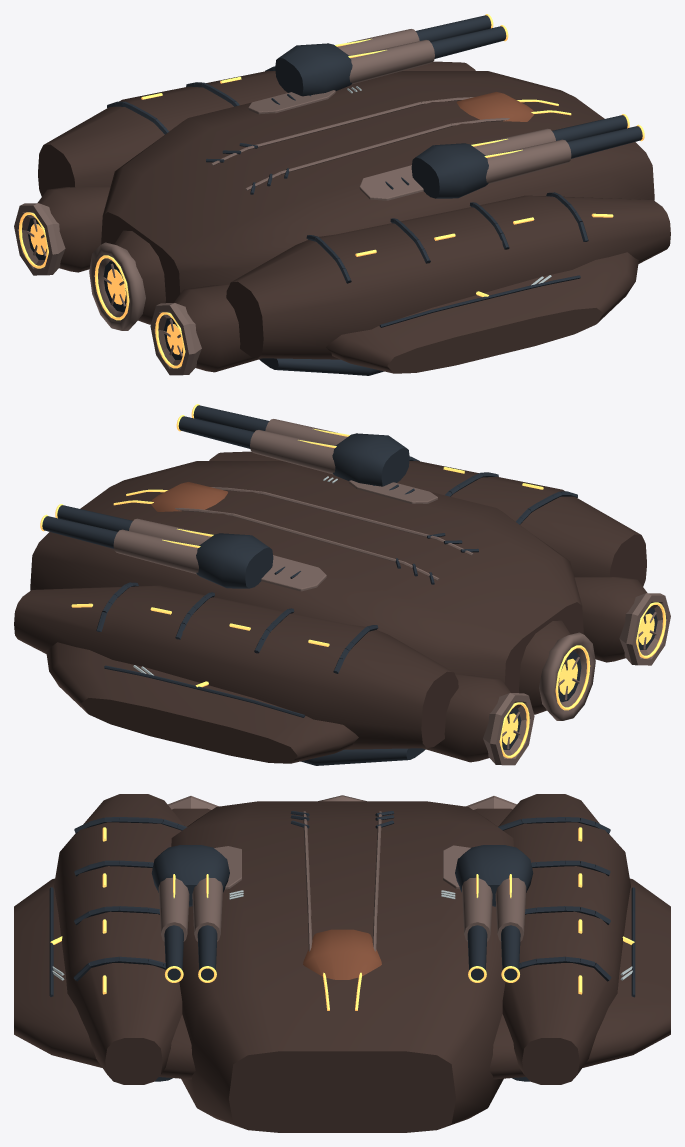
The model's file is bastion.glb.
3 renders of one model, top to bottom at view 1: azimuth 30°, elevation 25°; view 2: azimuth 150°, elevation 25°; view 3: azimuth 270°, elevation 25°, orthographic. The views are drawn at different scales.
Parts seen in each view (by area): view 1: hull Hull paint, wing Hull paint, mount Graphite heat armour, engine Brushed panel alloy, mount Brushed panel alloy, hull Brushed panel alloy, hull Graphite heat armour, engine Hull guidance, hull Smoked canopy, wing Graphite heat armour, hull Hull guidance, engine Graphite heat armour (+1 smaller); view 2: hull Hull paint, wing Hull paint, mount Graphite heat armour, engine Brushed panel alloy, mount Brushed panel alloy, hull Brushed panel alloy, hull Graphite heat armour, engine Hull guidance, hull Smoked canopy, wing Graphite heat armour, hull Hull guidance, engine Graphite heat armour (+1 smaller); view 3: hull Hull paint, wing Hull paint, mount Graphite heat armour, mount Brushed panel alloy, hull Graphite heat armour, hull Smoked canopy, hull Brushed panel alloy, engine Brushed panel alloy, wing Graphite heat armour, hull Hull guidance, mount Hull guidance.
Part boxes in pixels (x1,y1,x2,y2): hull Hull paint: (37,61,670,372); wing Hull paint: (326,252,638,373); mount Graphite heat armour: (275,15,642,198); engine Brushed panel alloy: (14,203,201,375); mount Brushed panel alloy: (337,29,571,184); hull Brushed panel alloy: (211,90,509,200); hull Graphite heat armour: (107,66,588,375); engine Hull guidance: (18,212,185,368); hull Smoked canopy: (456,92,534,121); wing Graphite heat armour: (379,275,580,327); hull Hull guidance: (141,77,613,256); engine Graphite heat armour: (27,218,182,359); hull Hull paint: (14,451,647,762); wing Hull paint: (46,642,358,763); mount Graphite heat armour: (42,405,409,588); engine Brushed panel alloy: (483,593,670,765); mount Brushed panel alloy: (113,419,347,574); hull Brushed panel alloy: (175,480,473,591); hull Graphite heat armour: (96,456,577,765); engine Hull guidance: (499,602,666,758); hull Smoked canopy: (151,482,227,511); wing Graphite heat armour: (104,665,304,717); hull Hull guidance: (71,467,543,646); engine Graphite heat armour: (502,608,657,749); hull Hull paint: (54,794,630,1132); wing Hull paint: (14,878,670,1079); mount Graphite heat armour: (151,845,533,980); mount Brushed panel alloy: (158,877,526,941); hull Graphite heat armour: (73,811,611,1081); hull Smoked canopy: (303,929,381,979); hull Brushed panel alloy: (214,811,470,951); engine Brushed panel alloy: (168,795,516,809); wing Graphite heat armour: (49,887,635,997); hull Hull guidance: (102,827,582,1010); mount Hull guidance: (165,874,519,982).
Size of the model in its own units: 51.02 by 17.39 by 52.
